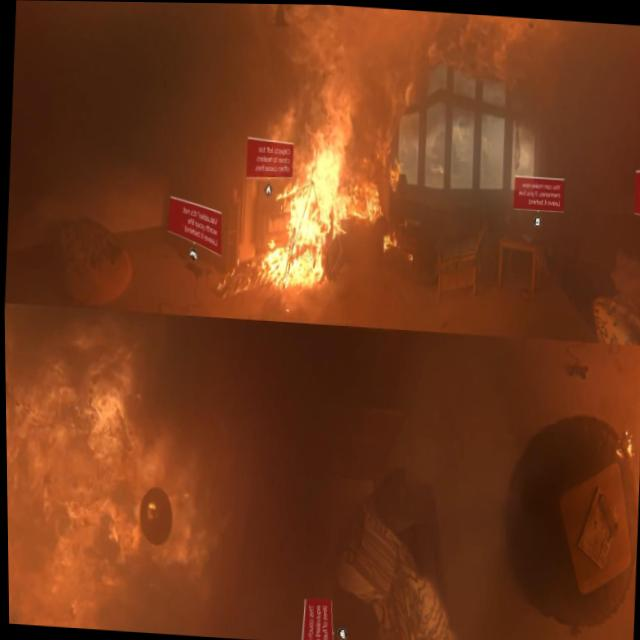fire: (612, 416, 636, 465)
